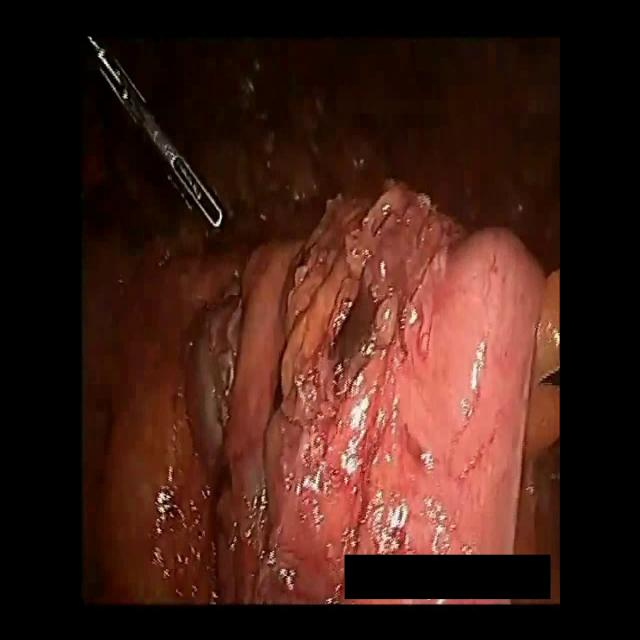surgical-area: (82, 20, 558, 604)
surgical-tool: (83, 20, 223, 231)
